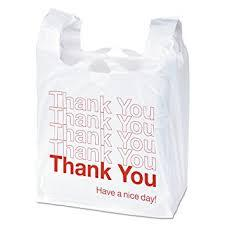Plastic bag: (32, 8, 194, 225)
